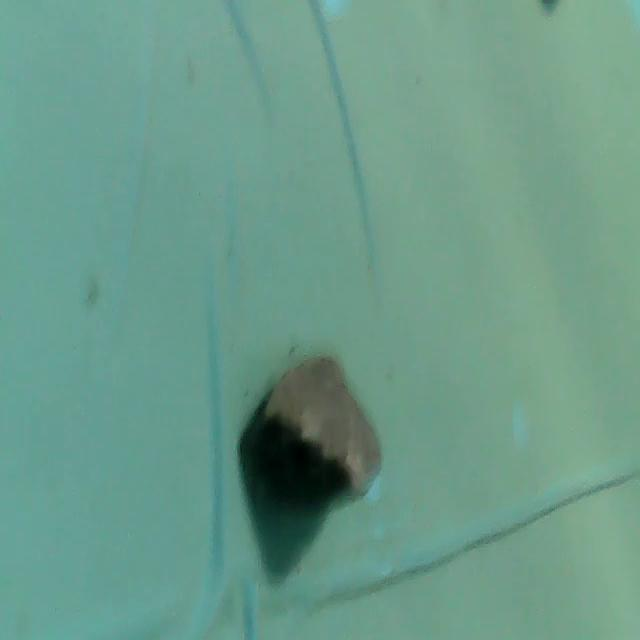rock: (242, 345, 386, 519)
